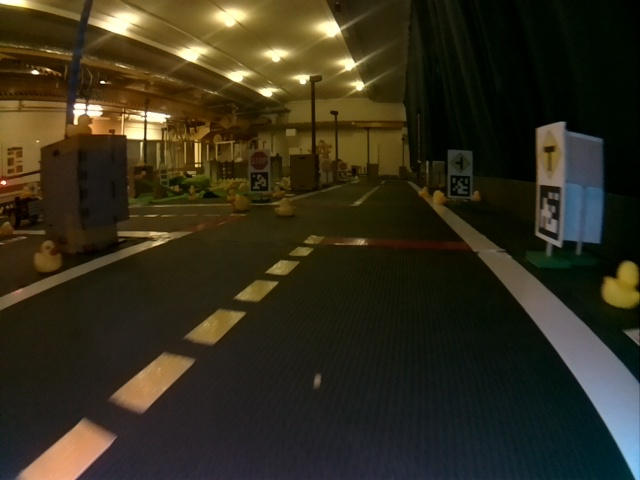Duckie: (601, 262, 639, 308), (35, 242, 61, 272), (67, 115, 92, 135), (278, 200, 293, 216), (234, 197, 248, 211), (436, 193, 446, 203), (227, 190, 237, 199), (471, 191, 480, 200)
Intersection sign: (538, 130, 563, 180), (450, 153, 471, 174)
QR code: (537, 185, 561, 243), (450, 175, 470, 197), (249, 172, 268, 191)
Stop sign: (250, 151, 269, 170)
